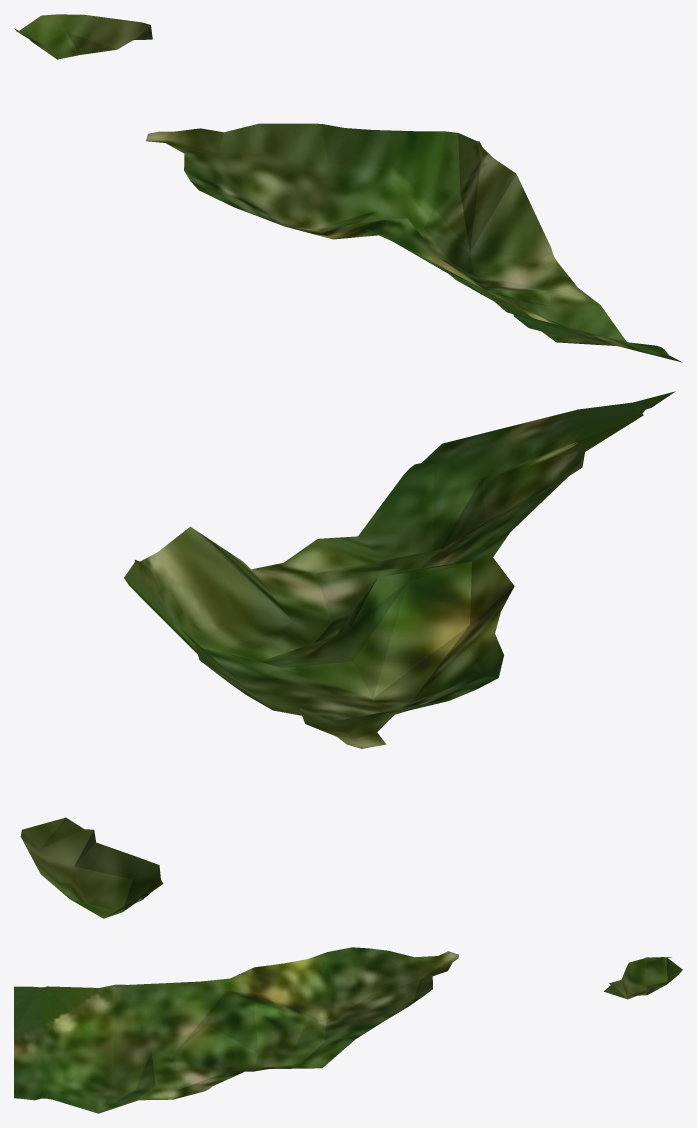
3 views of the same model, one above another, from view 1: azimuth 30°, elevation 25°; view 2: azimuth 150°, elevation 25°; view 3: azimuth 270°, elevation 25° (orthographic). The views are drawn at different scales.
Bounding box in the file's own units: 0.4981 × 0.1692 × 1.46.
Materials: 1 (1 with a texture image).
